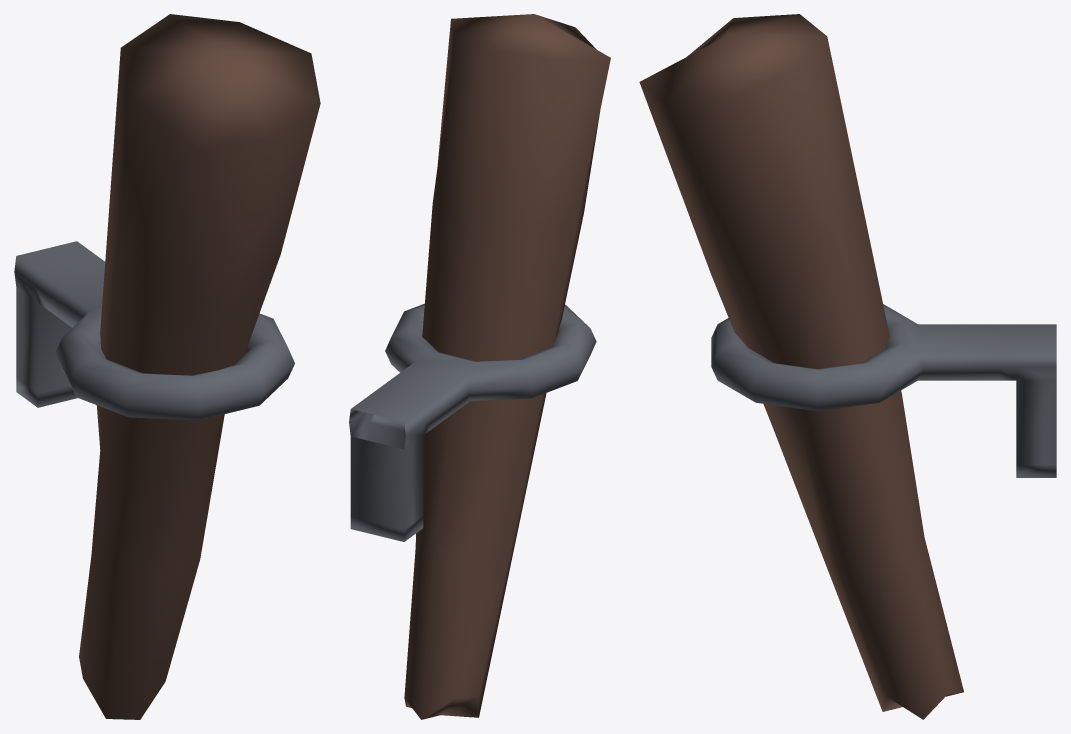
Rendered from torch.fbx.
The picture shows the model from 3 angles, left to right: view 1: azimuth 30°, elevation 25°; view 2: azimuth 150°, elevation 25°; view 3: azimuth 270°, elevation 25°; orthographic projection. The views are drawn at different scales.
Parts seen in each view (by area): view 1: torch; view 2: torch; view 3: torch.
Boxes of the visible parts, x1,y1,x2,y2 form: torch: (14, 14, 320, 719); torch: (349, 14, 610, 719); torch: (639, 14, 1056, 719).
Size of the model in its own units: 10.17 by 33.88 by 18.95.
